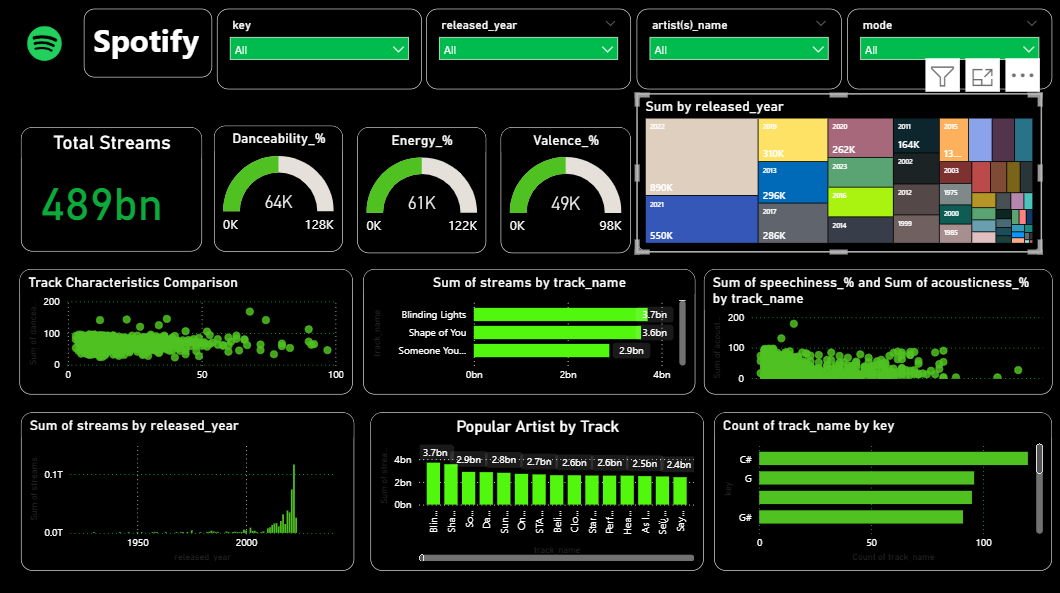

What the dashboard file says about the page in this screenshot:
{"tool":"powerbi","page":{"name":"Page 1","canvas":[1280,720],"ordinal":0},"visuals":[{"type":"image","box":[0,0,109.9,111.7],"z":0},{"type":"textbox","box":[102.6,14.4,154.9,82.8],"z":1000},{"type":"slicer","fields":{"Values":["spotify-2023 (2).key"]},"box":[262.9,14.4,246.7,97.2],"z":2000},{"type":"slicer","fields":{"Values":["spotify-2023 (2).released_year"]},"box":[515.1,14.4,246.7,97.2],"z":3000},{"type":"slicer","fields":{"Values":["spotify-2023 (2).artist(s)_name"]},"box":[767.2,14.4,246.7,97.2],"z":4000},{"type":"slicer","fields":{"Values":["spotify-2023 (2).mode"]},"box":[1021.1,14.4,246.7,97.2],"z":5000},{"type":"gauge","title":"Danceability_%","fields":{"Y":["Sum(spotify-2023 (2).danceability_%)"]},"box":[258.9,155.4,155.3,151.7],"z":6000},{"type":"gauge","title":"Energy_%","fields":{"Y":["Sum(spotify-2023 (2).energy_%)"]},"box":[430.9,157.2,155.3,151.7],"z":7000},{"type":"gauge","title":"Valence_%","fields":{"Y":["Sum(spotify-2023 (2).valence_%)"]},"box":[604.1,156.7,156.7,151.5],"z":8000},{"type":"cardVisual","title":"Total Streams","fields":{"Data":["Sum(spotify-2023 (2).streams)"]},"box":[25.9,157.2,218.2,149.8],"z":9000},{"type":"treemap","title":"Sum by released_year","fields":{"Group":["spotify-2023 (2).released_year"],"Values":["Sum(spotify-2023 (2).in_spotify_playlists)"]},"box":[767.2,117.1,488,190.9],"z":10000},{"type":"scatterChart","title":"Track Characteristics Comparison","fields":{"Category":["spotify-2023 (2).track_name"],"X":["Sum(spotify-2023 (2).liveness_%)"],"Y":["Sum(spotify-2023 (2).danceability_%)"]},"box":[25.2,327.8,401.6,151.3],"z":11000},{"type":"barChart","fields":{"Category":["spotify-2023 (2).track_name"],"Y":["Sum(spotify-2023 (2).streams)"]},"box":[439.4,327.8,399.8,151.3],"z":12000},{"type":"scatterChart","fields":{"Category":["spotify-2023 (2).track_name"],"X":["Sum(spotify-2023 (2).speechiness_%)"],"Y":["Sum(spotify-2023 (2).acousticness_%)"]},"box":[848.2,327.8,419.6,151.3],"z":13000},{"type":"columnChart","title":"Popular Artist by Track","fields":{"Y":["Sum(spotify-2023 (2).streams)"],"Category":["spotify-2023 (2).track_name"]},"box":[447.6,499.4,401.3,190.5],"z":14000},{"type":"barChart","fields":{"Category":["spotify-2023 (2).key"],"Y":["CountNonNull(spotify-2023 (2).track_name)"]},"box":[861.8,499.4,406.9,190.5],"z":15000},{"type":"columnChart","fields":{"Y":["Sum(spotify-2023 (2).streams)"],"Category":["spotify-2023 (2).released_year"]},"box":[25.9,499.4,401.3,190.5],"z":16000}]}

Visuals, with their boxes in screenshot pixels (x1, y1, x2, y2), scaled from the page's 1280x720 canvas onto the 1060x593 screenshot:
image: BBox(0, 0, 91, 92)
textbox: BBox(85, 12, 213, 80)
slicer - spotify-2023 (2).key: BBox(218, 12, 422, 92)
slicer - spotify-2023 (2).released_year: BBox(427, 12, 631, 92)
slicer - spotify-2023 (2).artist(s)_name: BBox(635, 12, 840, 92)
slicer - spotify-2023 (2).mode: BBox(846, 12, 1050, 92)
"Danceability_%" gauge: BBox(214, 128, 343, 253)
"Energy_%" gauge: BBox(357, 129, 485, 254)
"Valence_%" gauge: BBox(500, 129, 630, 254)
"Total Streams" cardVisual: BBox(21, 129, 202, 253)
"Sum by released_year" treemap: BBox(635, 96, 1039, 254)
"Track Characteristics Comparison" scatterChart: BBox(21, 270, 353, 395)
barChart - spotify-2023 (2).track_name x Sum(spotify-2023 (2).streams): BBox(364, 270, 695, 395)
scatterChart - spotify-2023 (2).track_name x Sum(spotify-2023 (2).speechiness_%): BBox(702, 270, 1050, 395)
"Popular Artist by Track" columnChart: BBox(371, 411, 703, 568)
barChart - spotify-2023 (2).key x CountNonNull(spotify-2023 (2).track_name): BBox(714, 411, 1051, 568)
columnChart - Sum(spotify-2023 (2).streams) x spotify-2023 (2).released_year: BBox(21, 411, 354, 568)
